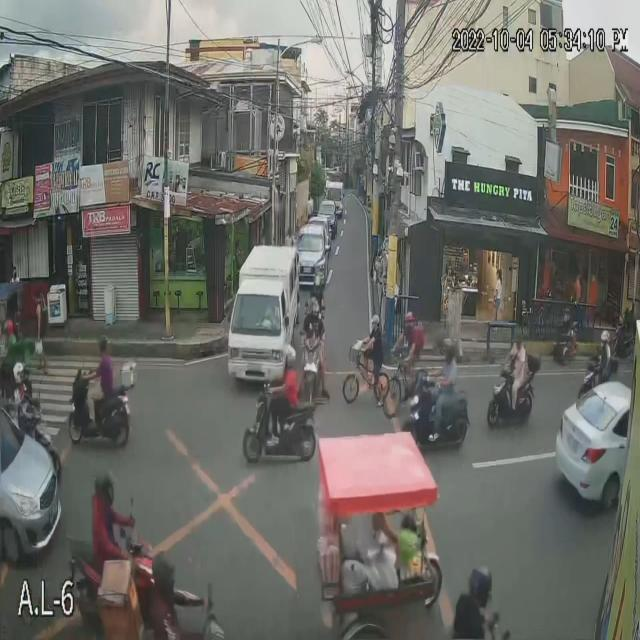Full-Faced: (151, 546, 173, 593), (92, 463, 116, 505), (438, 331, 460, 364), (4, 311, 20, 343), (95, 331, 112, 361), (595, 326, 614, 347), (12, 361, 28, 385), (308, 297, 320, 323)
Half-Faced: (280, 338, 296, 369)
Invalid: (510, 330, 528, 351)
